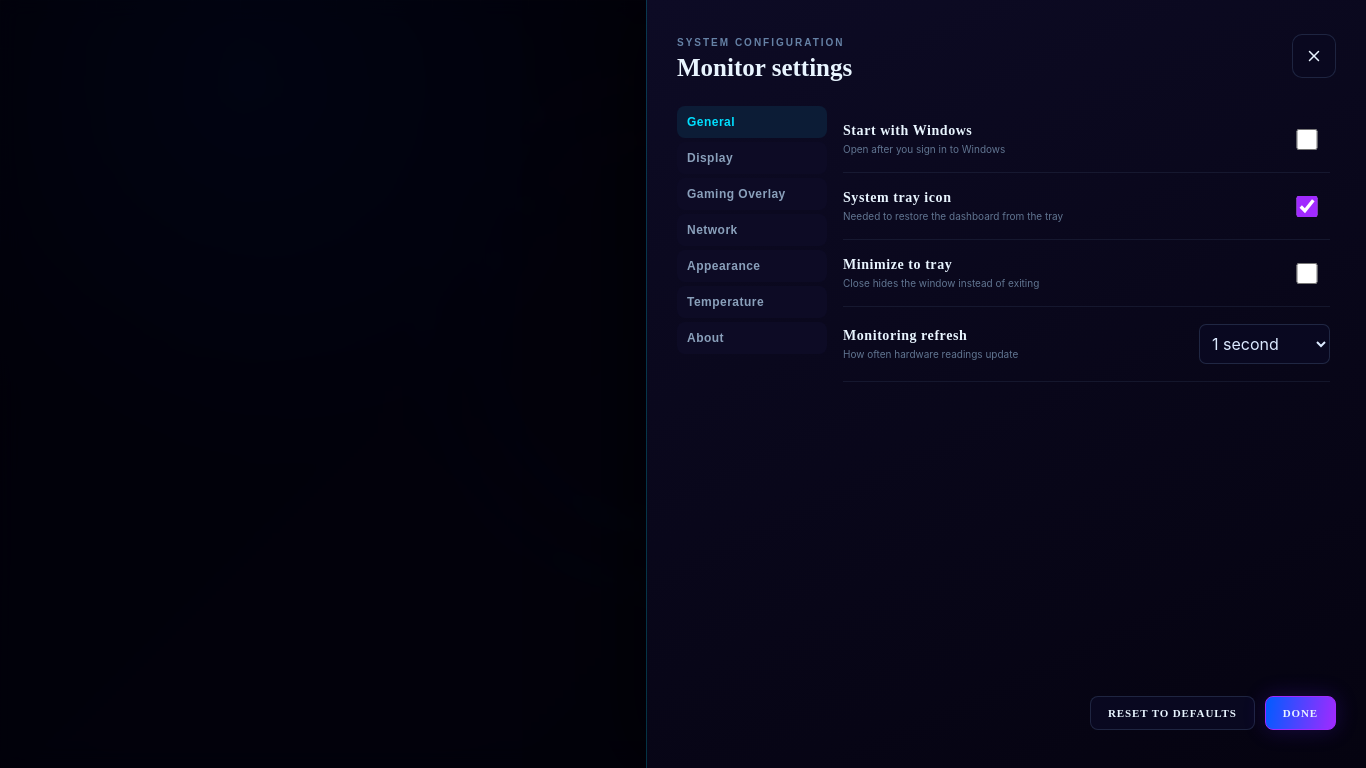
Test: telemetry components › portals Settings onto document.body so Appearance is outside the dashboard drag region
Click the button "Appearance".
click(752, 266)  # box top-left (677, 250), bottom-right (827, 282)
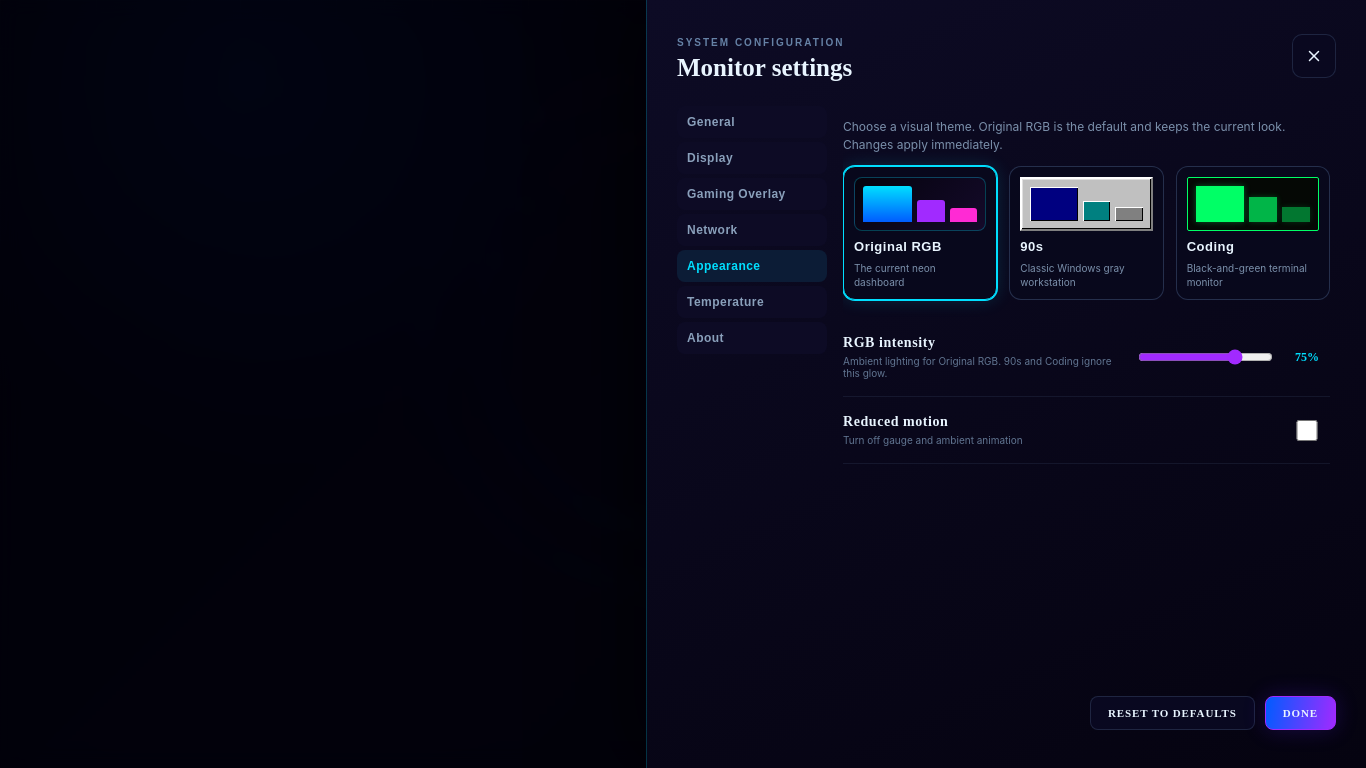
Result: the radio button labelled "Original RGB" is shown at top-left (843, 166), bottom-right (997, 300)
Result: the text "Choose a visual theme" is shown at top-left (843, 119), bottom-right (1285, 152)
